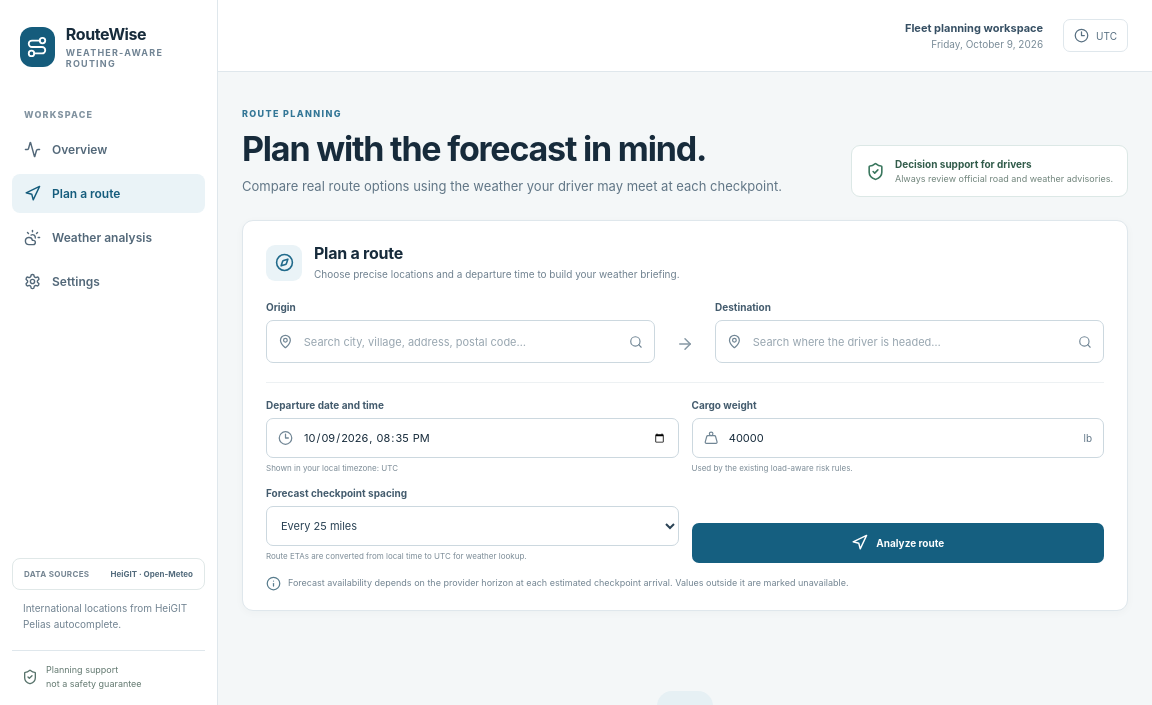
Scenario: RouteWise dashboard › supports keyboard navigation and selection in location suggestions
The width and height of the screenshot is (1152, 705).
Type "Boston" into the field labelled "Origin" at (461,342), box [302,321,620,362]
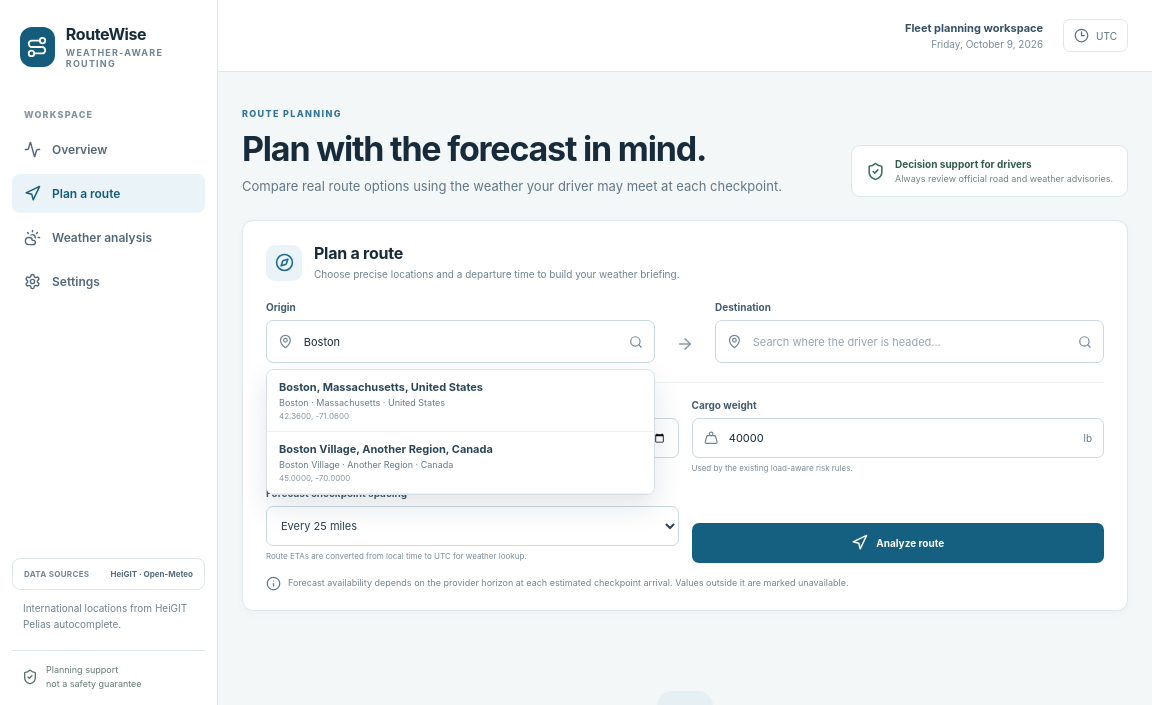
Expected: the option "Boston, Massachusetts" is shown, [267,370,654,432]
Press ArrowDown in the field labelled "Origin", box [302,321,620,362]
Press Enter in the field labelled "Origin", box [302,321,620,362]
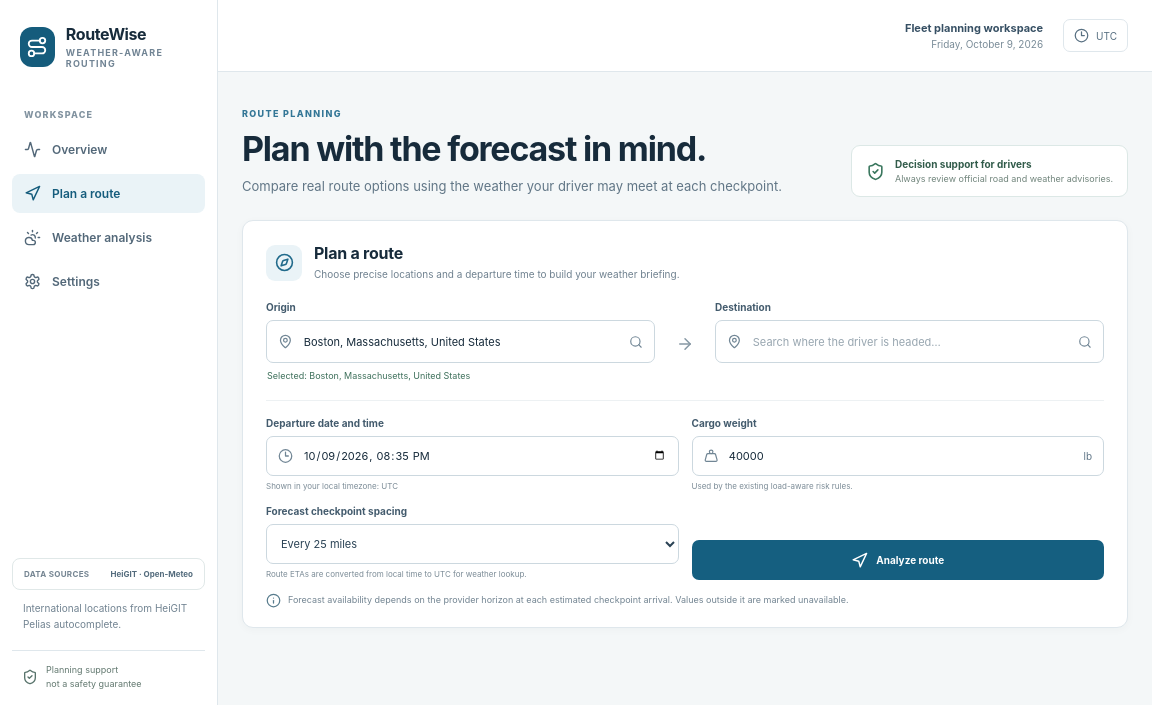
Expected: the field labelled "Origin" holds "Boston, Massachusetts, United States", [302,321,620,362]
